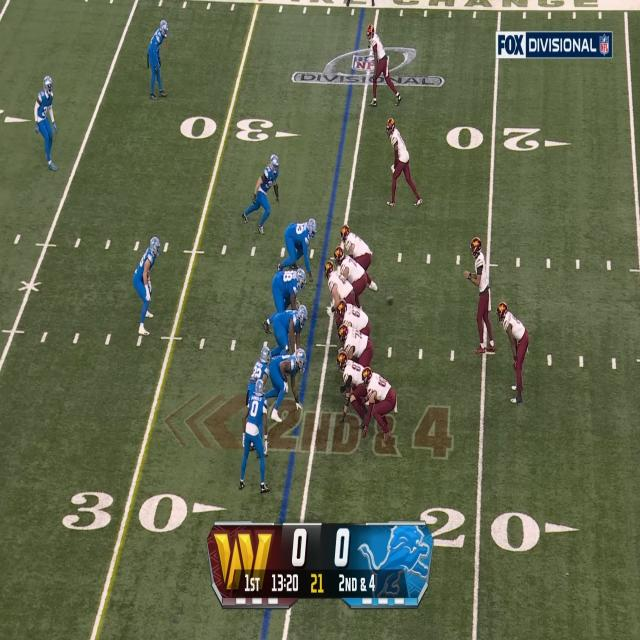Ball: (386, 295, 394, 307)
